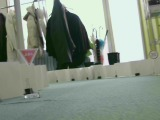stop: (17, 49, 41, 67)
